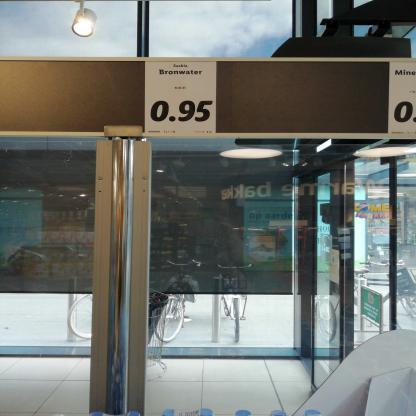prtg: (145, 62, 217, 134), (389, 63, 416, 135)
